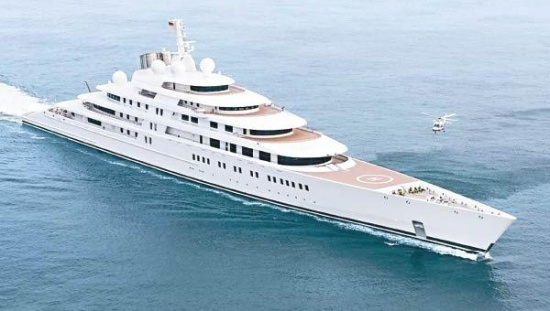airplane: (427, 110, 455, 132)
yacht: (19, 15, 518, 259)
